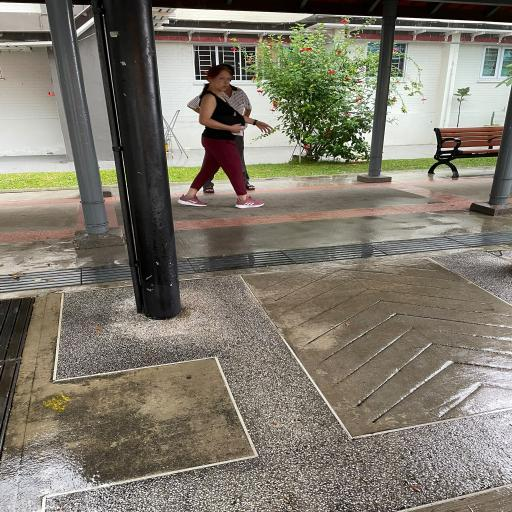person_right: (173, 58, 264, 213)
